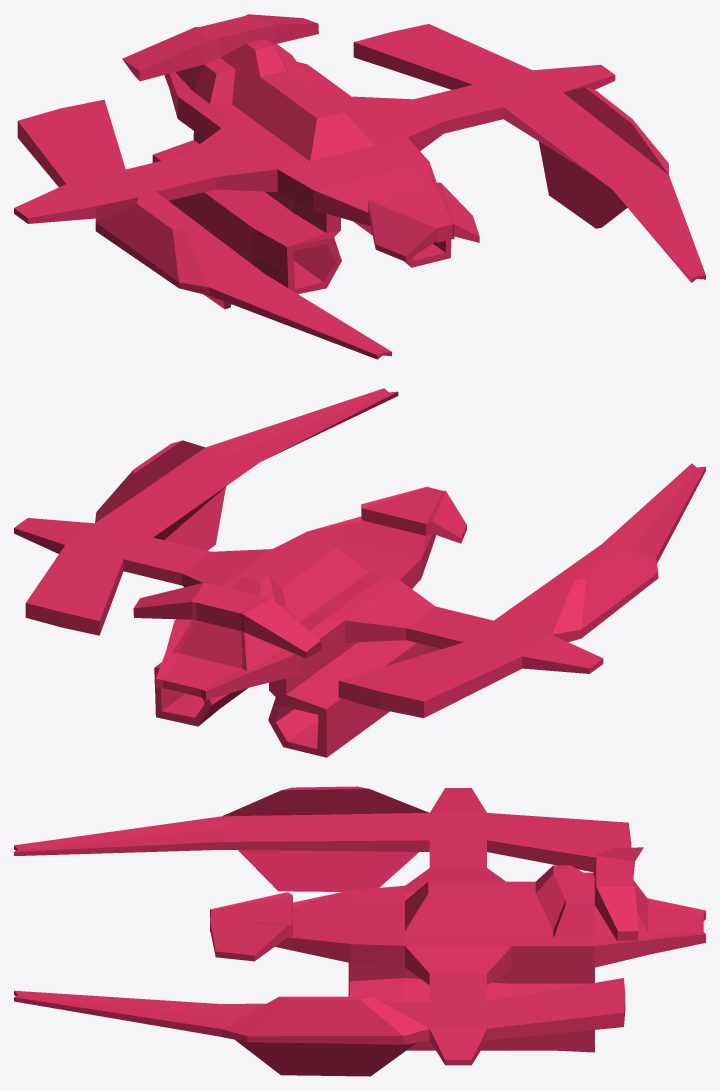
The model's file is hero.glb.
3 views of the same model, one above another, from view 1: azimuth 30°, elevation 25°; view 2: azimuth 150°, elevation 25°; view 3: azimuth 270°, elevation 25° (orthographic). The views are drawn at different scales.
Parts seen in each view (by area): view 1: Cube; view 2: Cube; view 3: Cube.
Part boxes in pixels (bbox=[...]): Cube: bbox=[14, 14, 705, 359]; Cube: bbox=[14, 388, 705, 757]; Cube: bbox=[14, 786, 705, 1076].
Size of the model in its own units: 14.82 by 3.66 by 15.94.
